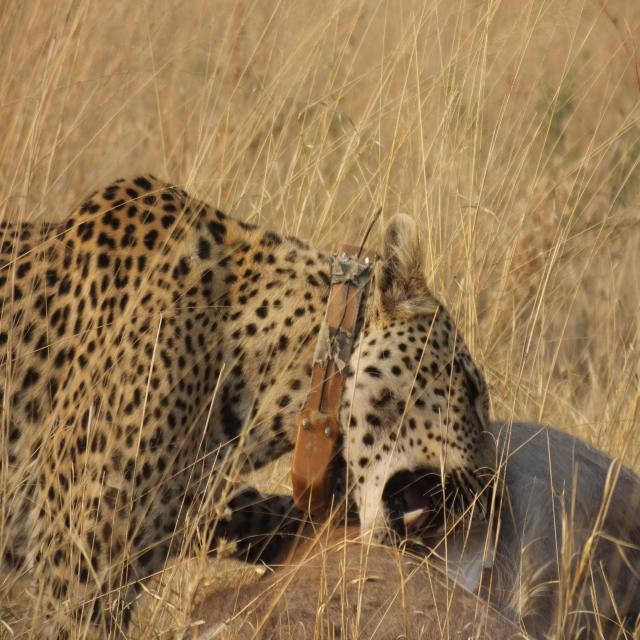Leopard: (1, 149, 505, 640)
